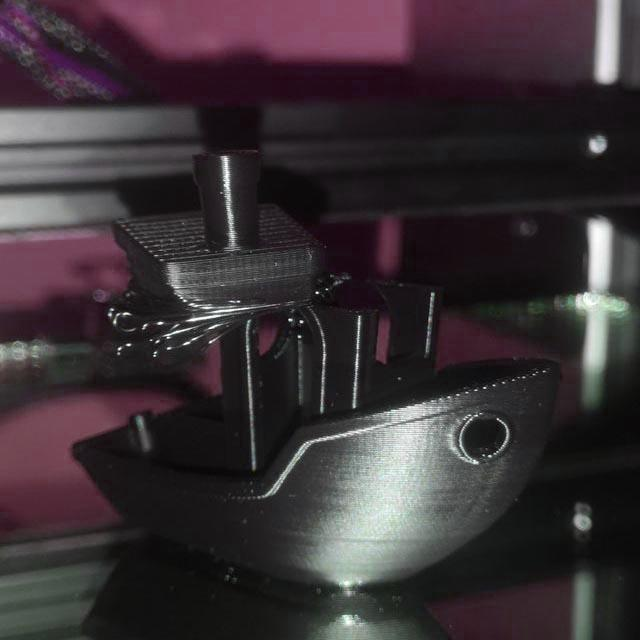Spaghetti: (107, 289, 282, 360), (310, 271, 353, 307)
